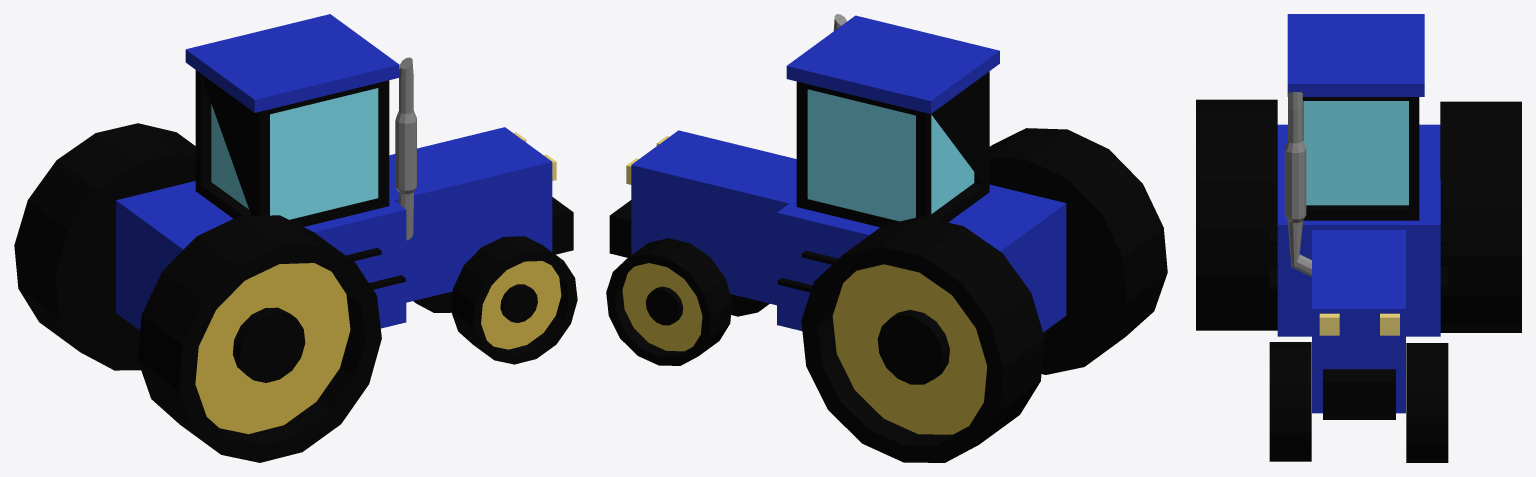
Rendered from TractorAzul.fbx.
3 renders of one model, left to right at view 1: azimuth 30°, elevation 25°; view 2: azimuth 150°, elevation 25°; view 3: azimuth 270°, elevation 25°, orthographic.
Parts seen in each view (by area): view 1: Cylinder.010, Cylinder.016, Cylinder.001, Cylinder.002, Cylinder.008, Cylinder.021, Cylinder.005, Cylinder.003, Cylinder.011, Cylinder.007, Cylinder.018, Cylinder.009; view 2: Cylinder.016, Cylinder.010, Cylinder.001, Cylinder.002, Cylinder.008, Cylinder.021, Cylinder.019, Cylinder.003, Cylinder.017, Cylinder.020, Cylinder.009; view 3: Cylinder.010, Cylinder.016, Cylinder.001, Cylinder.021, Cylinder.002, Cylinder.008, Cylinder.005, Cylinder.019, Cylinder.009, Cylinder.003, Cylinder.007, Cylinder.004 (+1 smaller).
Part boxes in pixels (x1,y1,x2,y2): Cylinder.010: (137, 215, 381, 462); Cylinder.016: (14, 123, 195, 370); Cylinder.001: (389, 127, 552, 302); Cylinder.002: (116, 181, 406, 330); Cylinder.008: (211, 88, 378, 219); Cylinder.021: (185, 14, 399, 112); Cylinder.005: (451, 236, 577, 364); Cylinder.003: (195, 70, 389, 226); Cylinder.011: (232, 307, 305, 382); Cylinder.007: (395, 57, 416, 240); Cylinder.018: (500, 284, 537, 322); Cylinder.009: (552, 197, 573, 254); Cylinder.016: (801, 216, 1044, 462); Cylinder.010: (989, 128, 1167, 374); Cylinder.001: (631, 130, 796, 305); Cylinder.002: (777, 184, 1066, 332); Cylinder.008: (807, 89, 974, 221); Cylinder.021: (786, 15, 999, 113); Cylinder.019: (606, 238, 732, 365); Cylinder.003: (796, 71, 989, 227); Cylinder.017: (877, 309, 949, 384); Cylinder.020: (645, 286, 683, 325); Cylinder.009: (609, 200, 631, 257); Cylinder.010: (1196, 99, 1277, 330); Cylinder.016: (1440, 101, 1521, 332); Cylinder.001: (1312, 230, 1405, 413); Cylinder.021: (1287, 14, 1424, 96); Cylinder.002: (1277, 124, 1440, 336); Cylinder.008: (1303, 101, 1408, 205); Cylinder.005: (1269, 342, 1311, 461); Cylinder.019: (1406, 343, 1448, 462); Cylinder.009: (1323, 369, 1395, 419); Cylinder.003: (1303, 97, 1419, 220); Cylinder.007: (1284, 92, 1311, 276); Cylinder.004: (1319, 313, 1339, 335).
Bounding box in the file's own units: 386 × 258 × 240.
